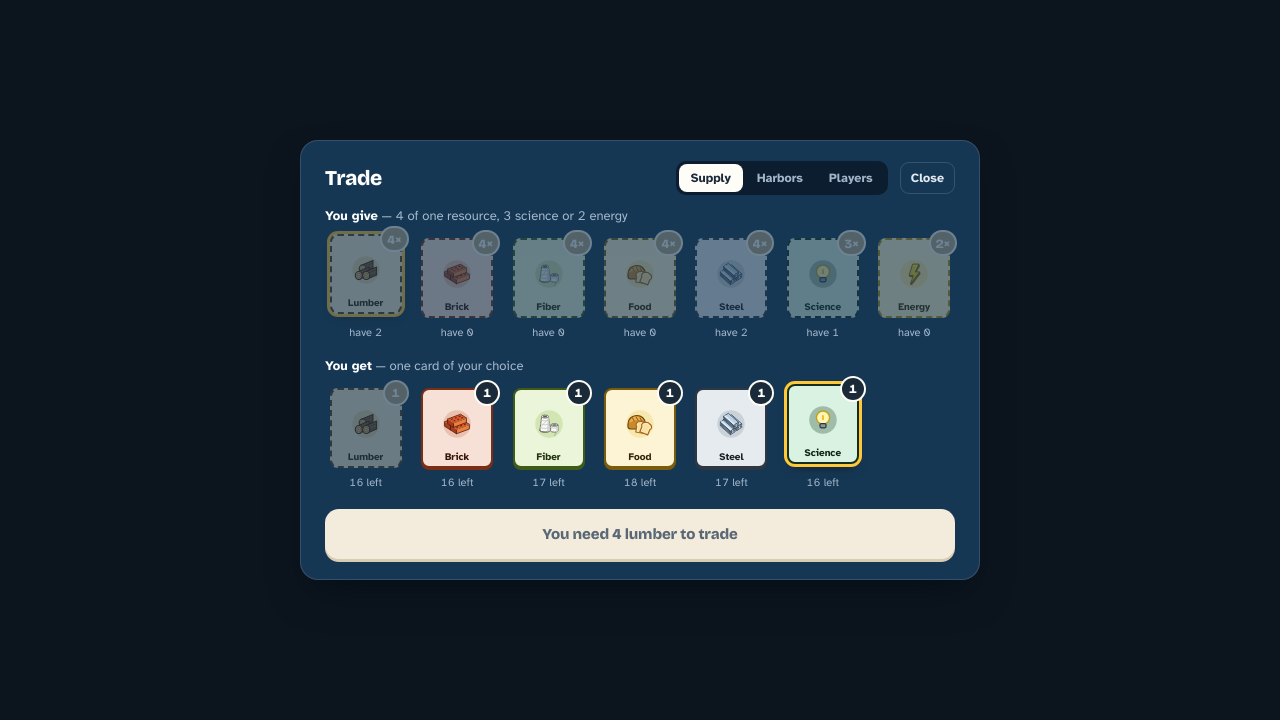
Test case: TradeModal offering to several players › cannot send when every player is left out
Click the tab "Players": coordinates (851, 178) [817,164,885,192]
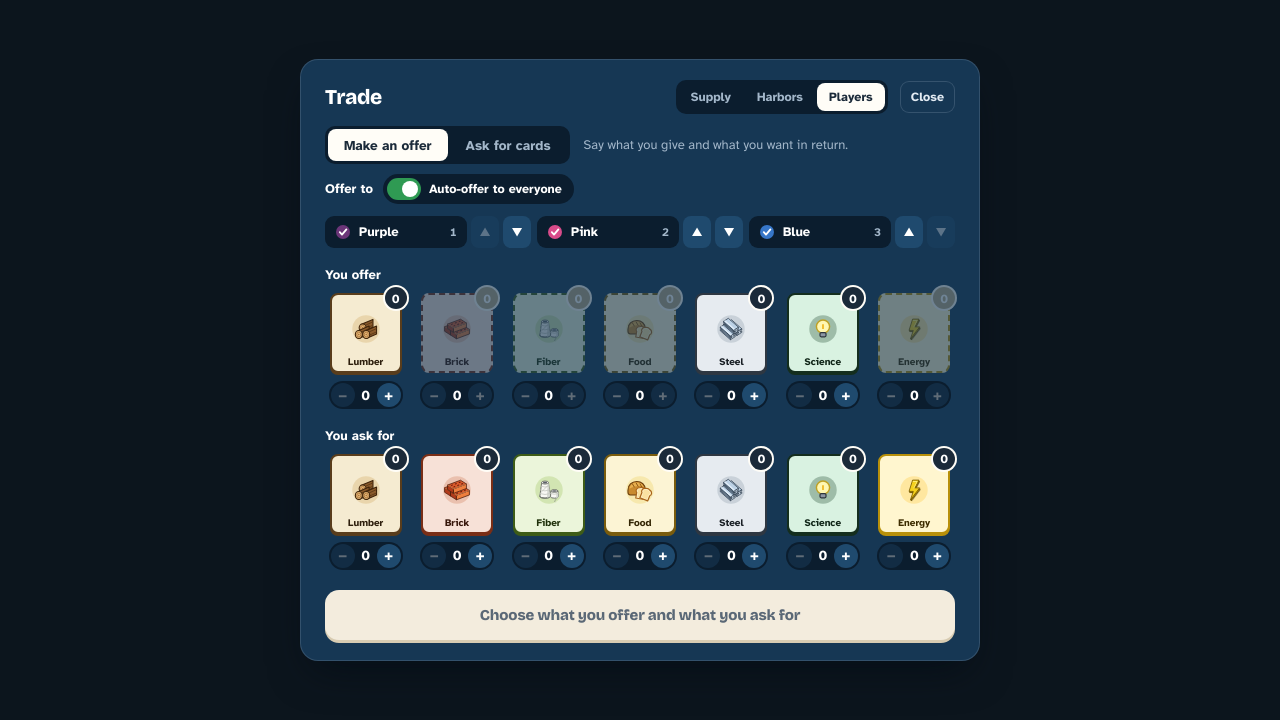
Click the checkbox labelled "Purple 1": coordinates (396, 232) [325,216,467,248]
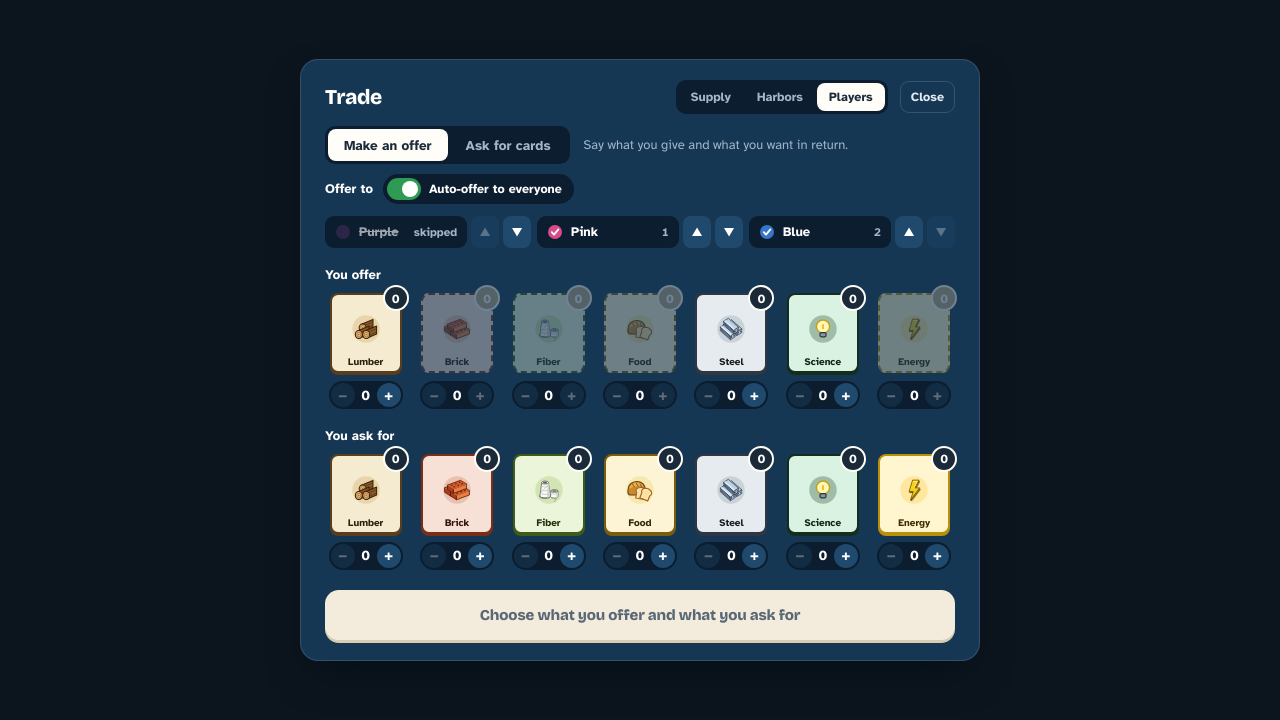
Click the checkbox labelled "Pink 1": coordinates (608, 232) [537,216,679,248]
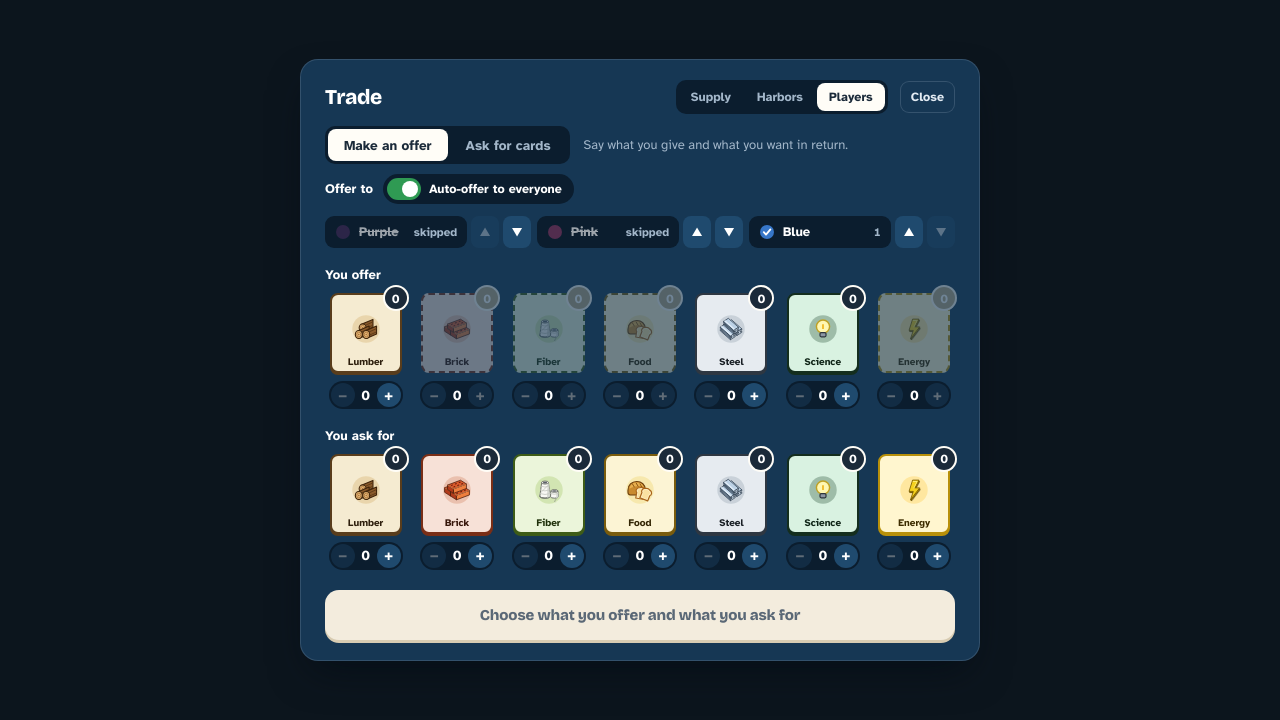
Click the checkbox labelled "Blue 1": coordinates (820, 232) [749,216,891,248]
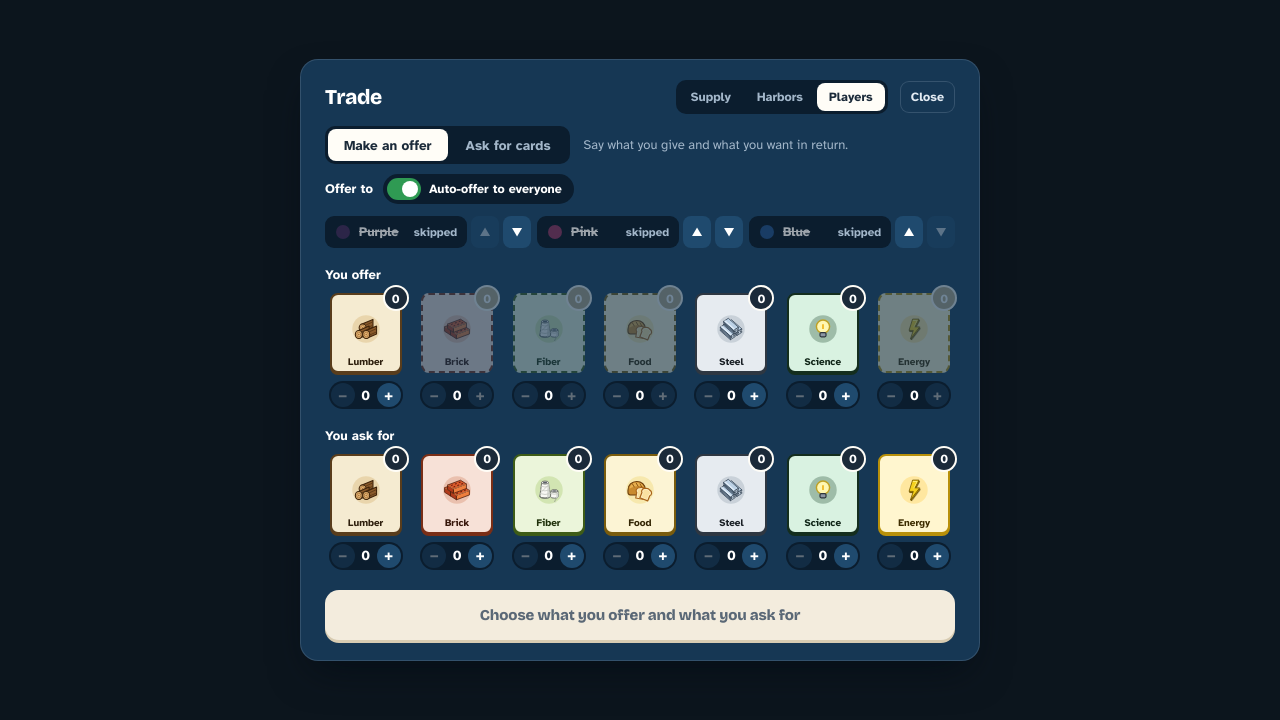
Click the 1st button "Steel 0": coordinates (731, 333) [695,293,767,373]
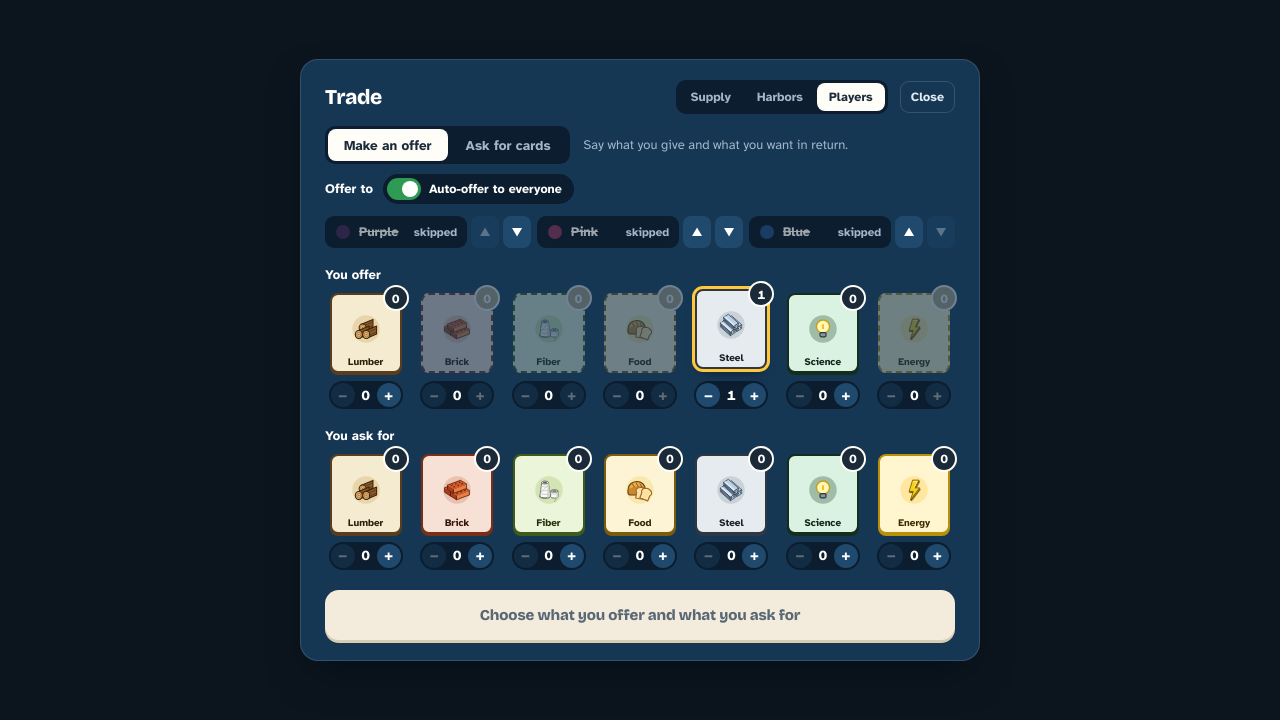
Click the 2nd button "Food 0": coordinates (640, 494) [604,454,676,534]
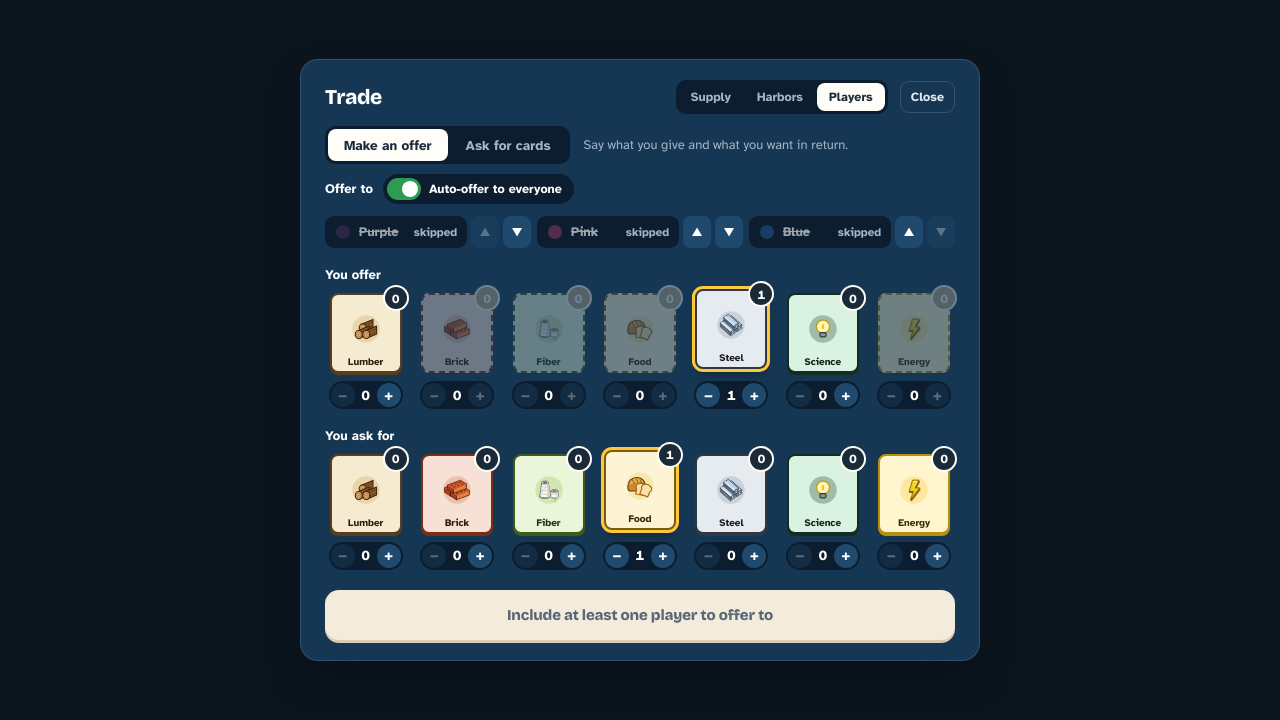
Check: the button with test id "send-domestic-offer-btn" is disabled, box [325,590,955,640]
Check: the button with test id "send-domestic-offer-btn" reads "Include at least one player to offer to", box [325,590,955,640]
